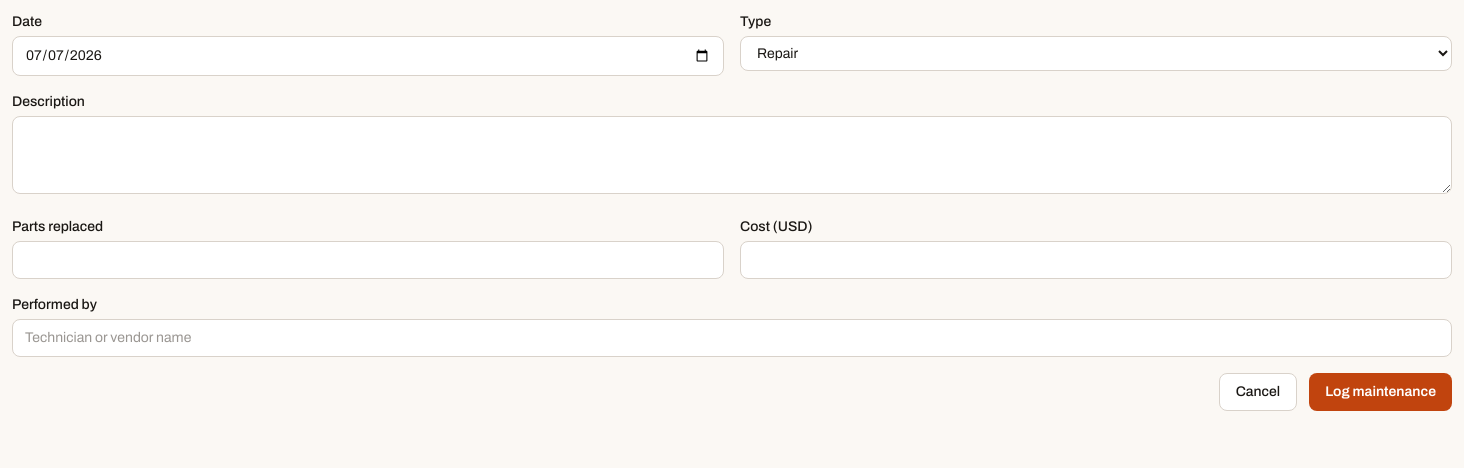
Test: MaintenanceForm › requires a description of the work
Click the button "Log maintenance".
click(1381, 392)  # box [1309,373,1452,411]
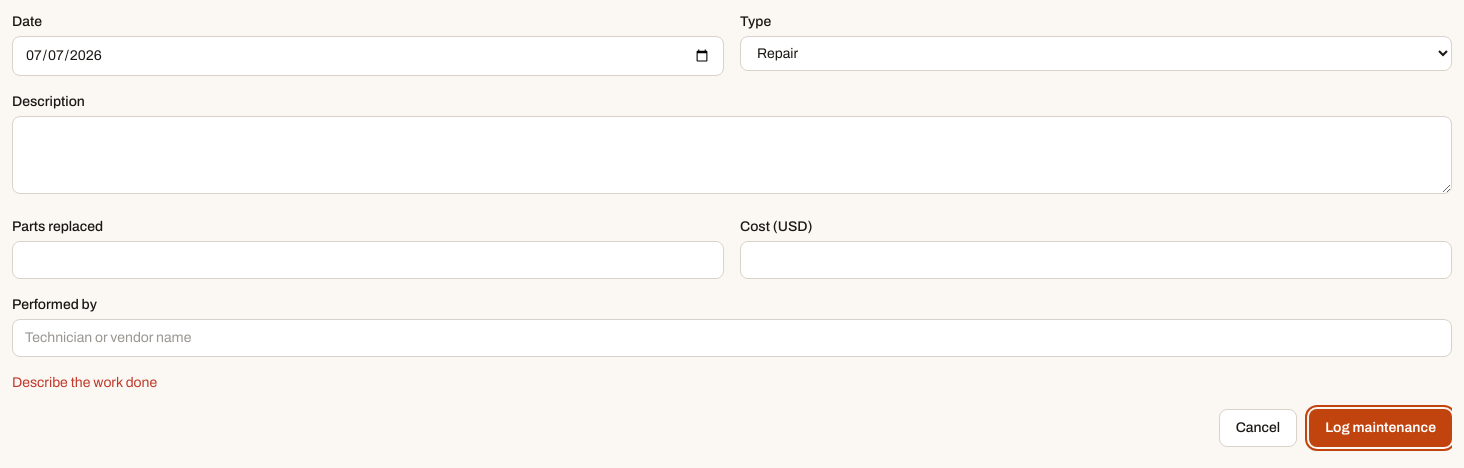
expect the message shows "Describe the work": met, box [12,375,157,390]
